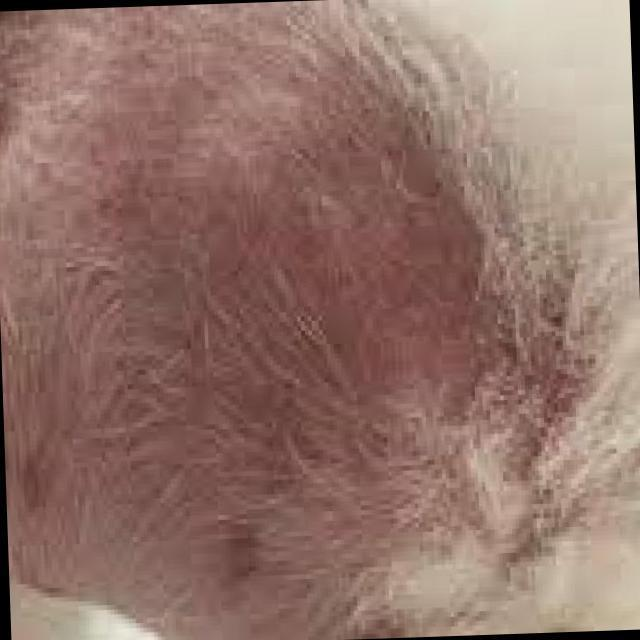fungal infection: (158, 149, 469, 442), (517, 307, 601, 469), (200, 496, 274, 594), (98, 122, 176, 212), (338, 96, 420, 175), (6, 422, 78, 511)
